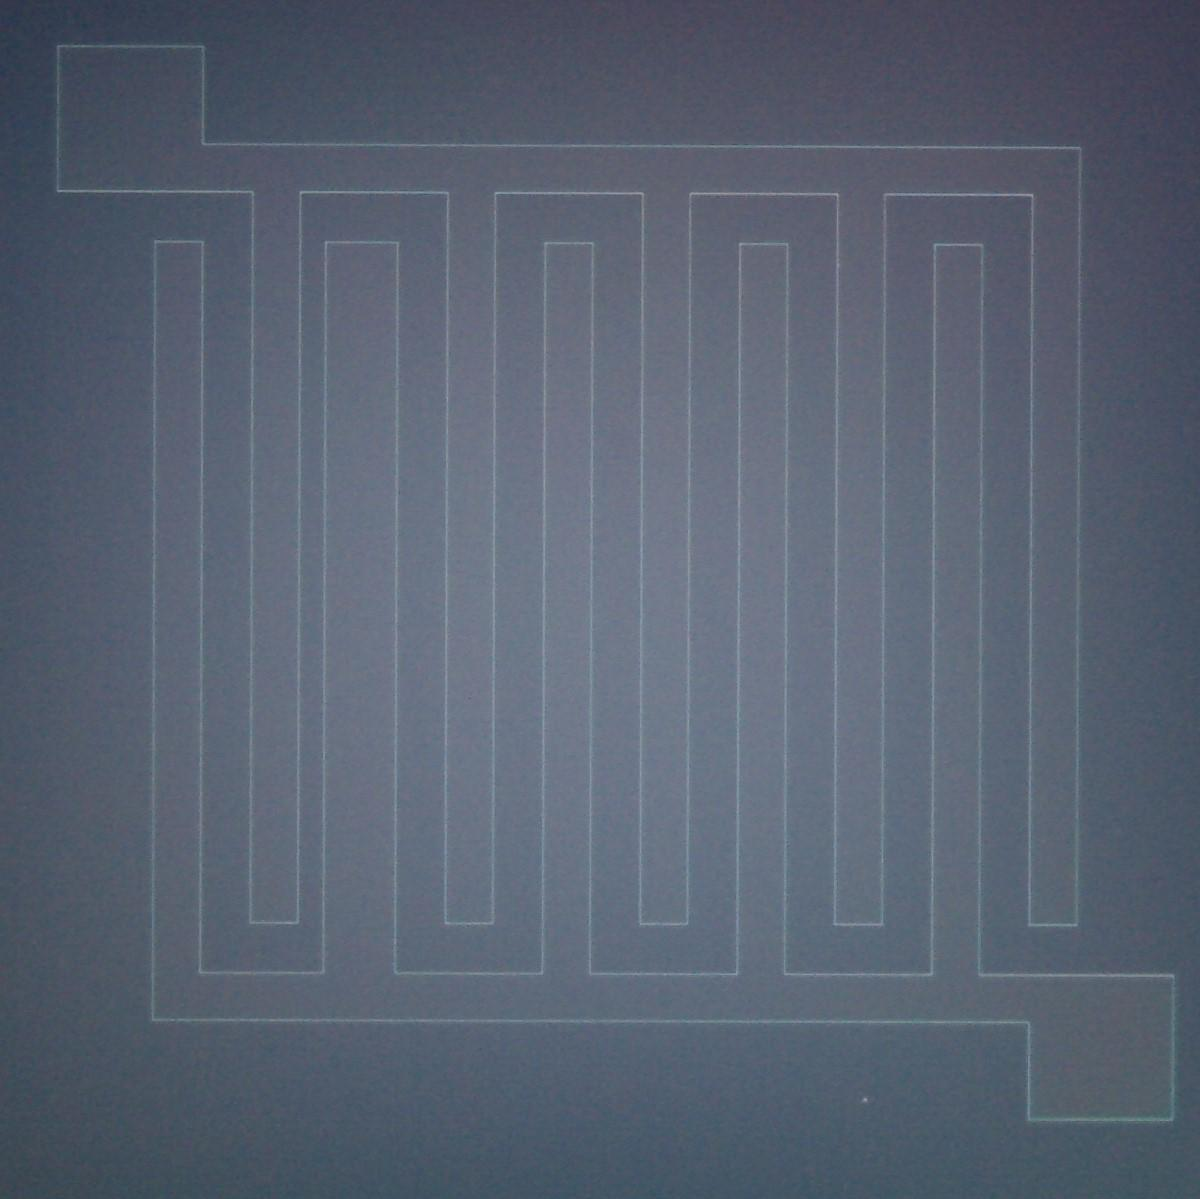s_point: (859, 1094, 872, 1108)
width: (225, 227, 511, 964)
